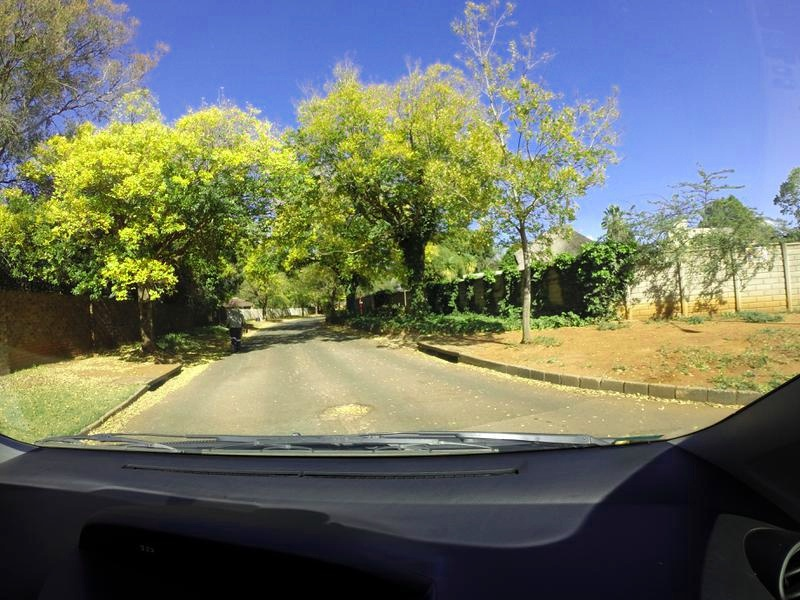pothole: (318, 406, 372, 419)
